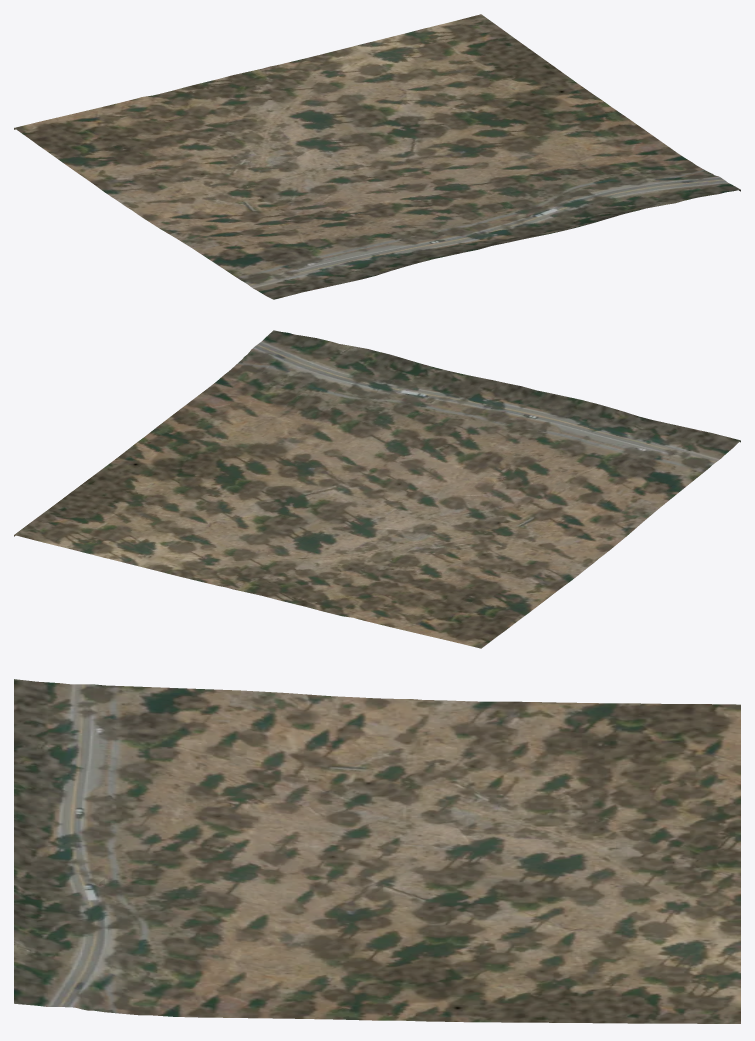
3 renders of one model, top to bottom at view 1: azimuth 30°, elevation 25°; view 2: azimuth 150°, elevation 25°; view 3: azimuth 270°, elevation 25°, orthographic. The views are drawn at different scales.
Bounding box in the file's own units: 250 × 11.91 × 241.
1 material, 1 textured.
